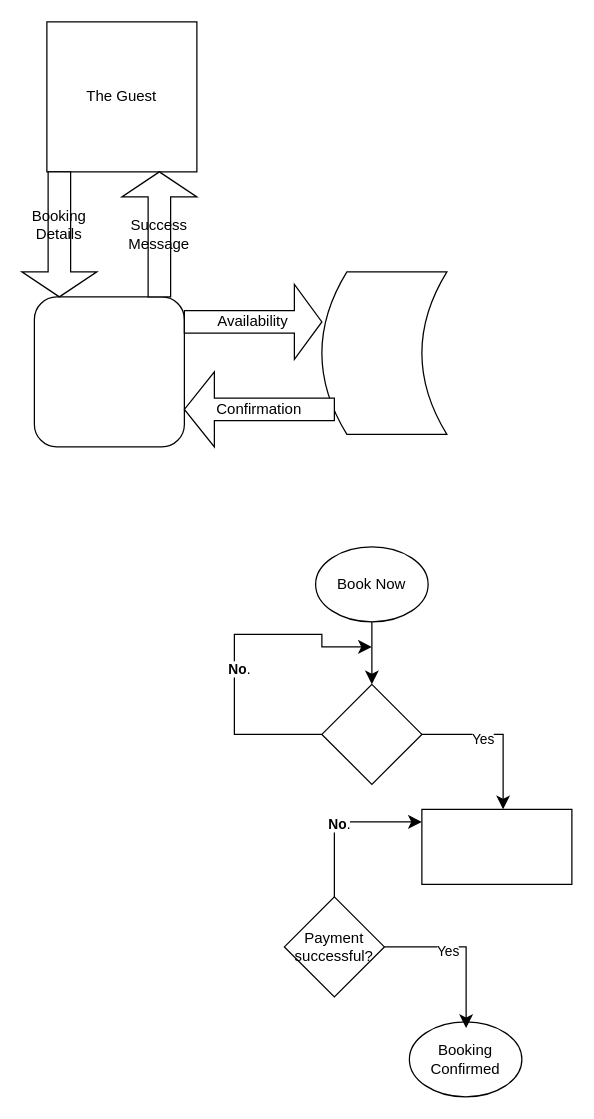
The diagram is 594 pixels wide and 1119 high, and some of its shapes have lost their labels. Here are the shapes that lost their labels. From the top down, the box of each, then its label:
(33, 296, 184, 447): Process Booking
(321, 271, 447, 434): Bookings Database
(321, 683, 422, 784): Are dates available?
(421, 808, 572, 884): System Boundary
